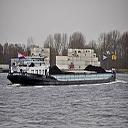Ships: (5, 53, 121, 87)
